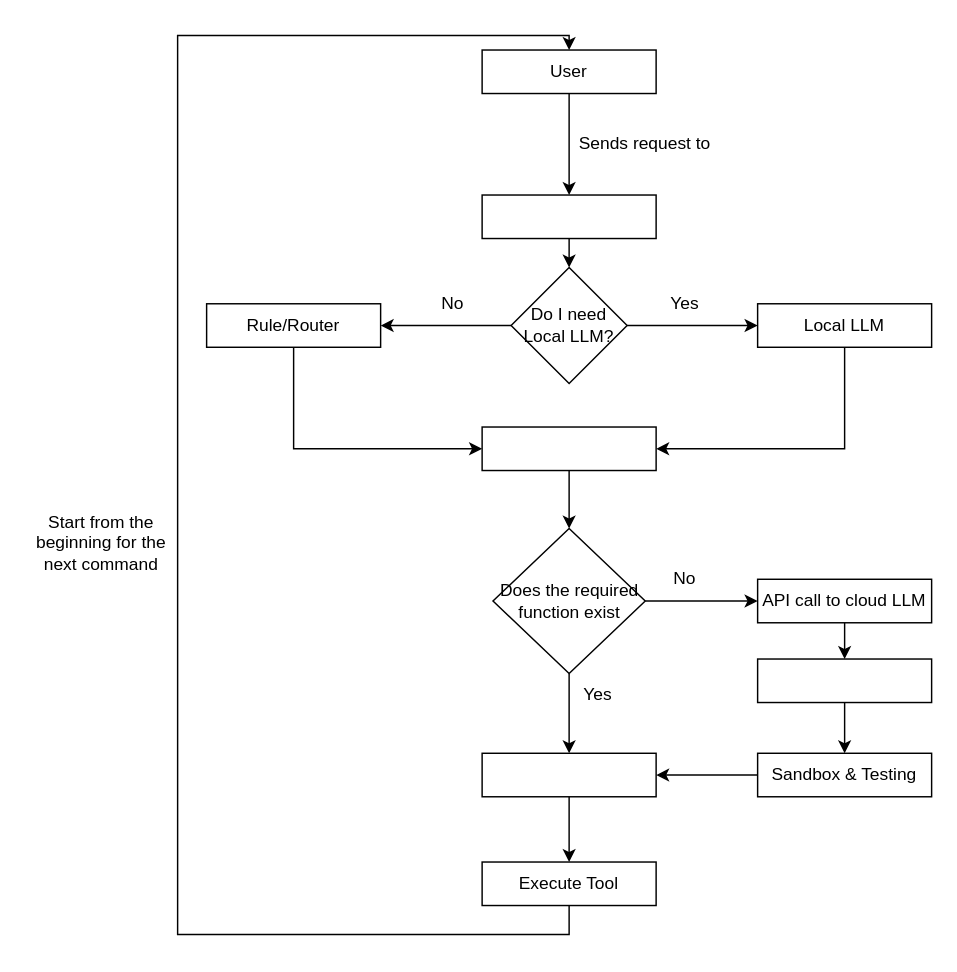
This 957x972 diagram has some shape labels left out. The shapes that lost their labels are listed below. From the top down, each one's centre as x and y in pixels, then its label:
(x=568, y=216): Jarvis Frontend
(x=568, y=448): Tool System/ Function Handler
(x=844, y=680): Generate tool
(x=568, y=774): Function File
